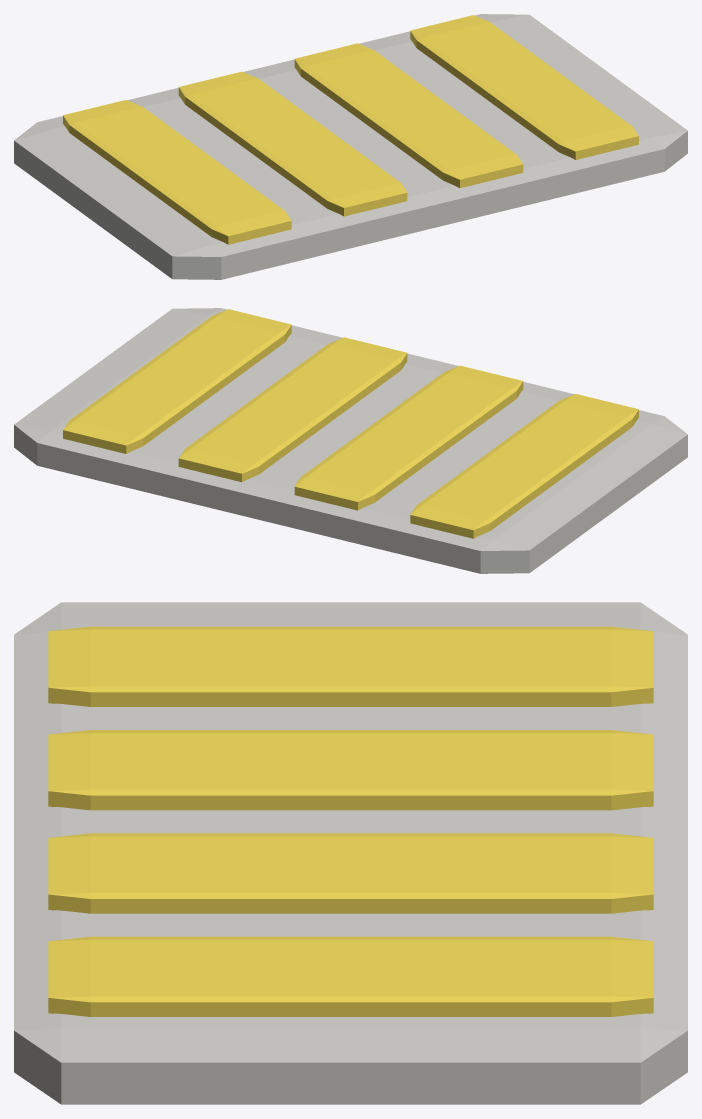
The model's file is b13_flared_accessible_curb_ramp.glb.
3 renders of one model, top to bottom at view 1: azimuth 30°, elevation 25°; view 2: azimuth 150°, elevation 25°; view 3: azimuth 270°, elevation 25°, orthographic. The views are drawn at different scales.
Visible parts, largest first — view 1: b13_flared_accessible_curb_ramp; view 2: b13_flared_accessible_curb_ramp; view 3: b13_flared_accessible_curb_ramp.
Part boxes in pixels (x1,y1,x2,y2): b13_flared_accessible_curb_ramp: (14,14,687,279); b13_flared_accessible_curb_ramp: (14,308,687,573); b13_flared_accessible_curb_ramp: (14,602,687,1104).
Bounding box in the file's own units: 3.2 × 0.21 × 1.98.
